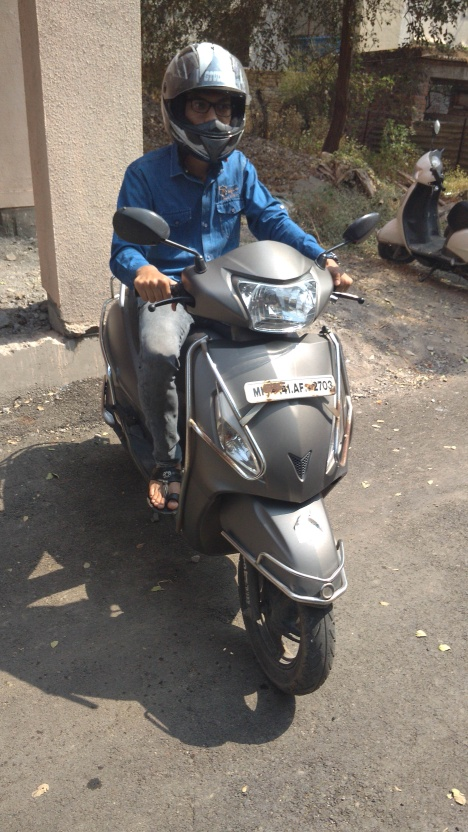helmet: (156, 40, 251, 161)
